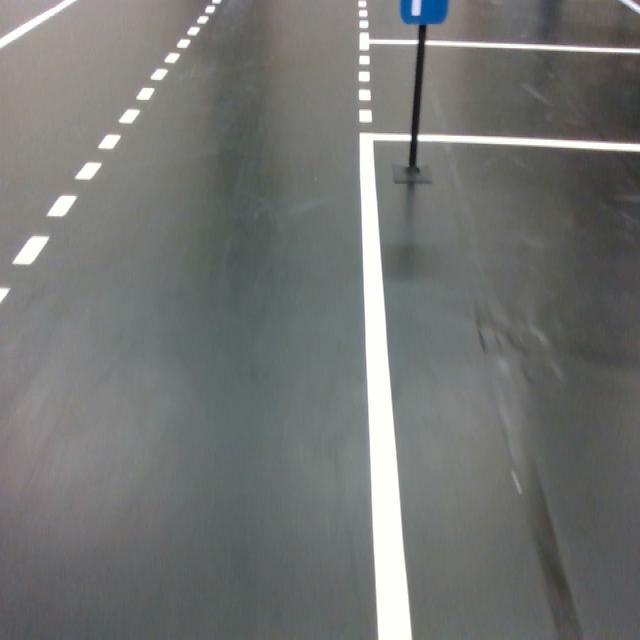parking-sign: (399, 0, 448, 24)
